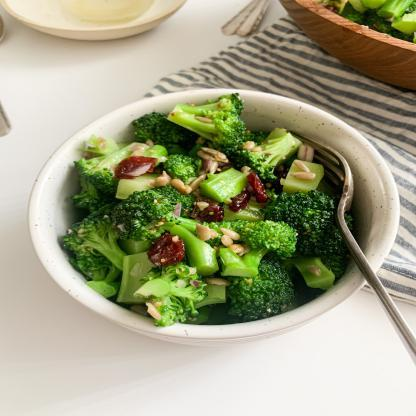broccoli: (53, 93, 362, 328)
